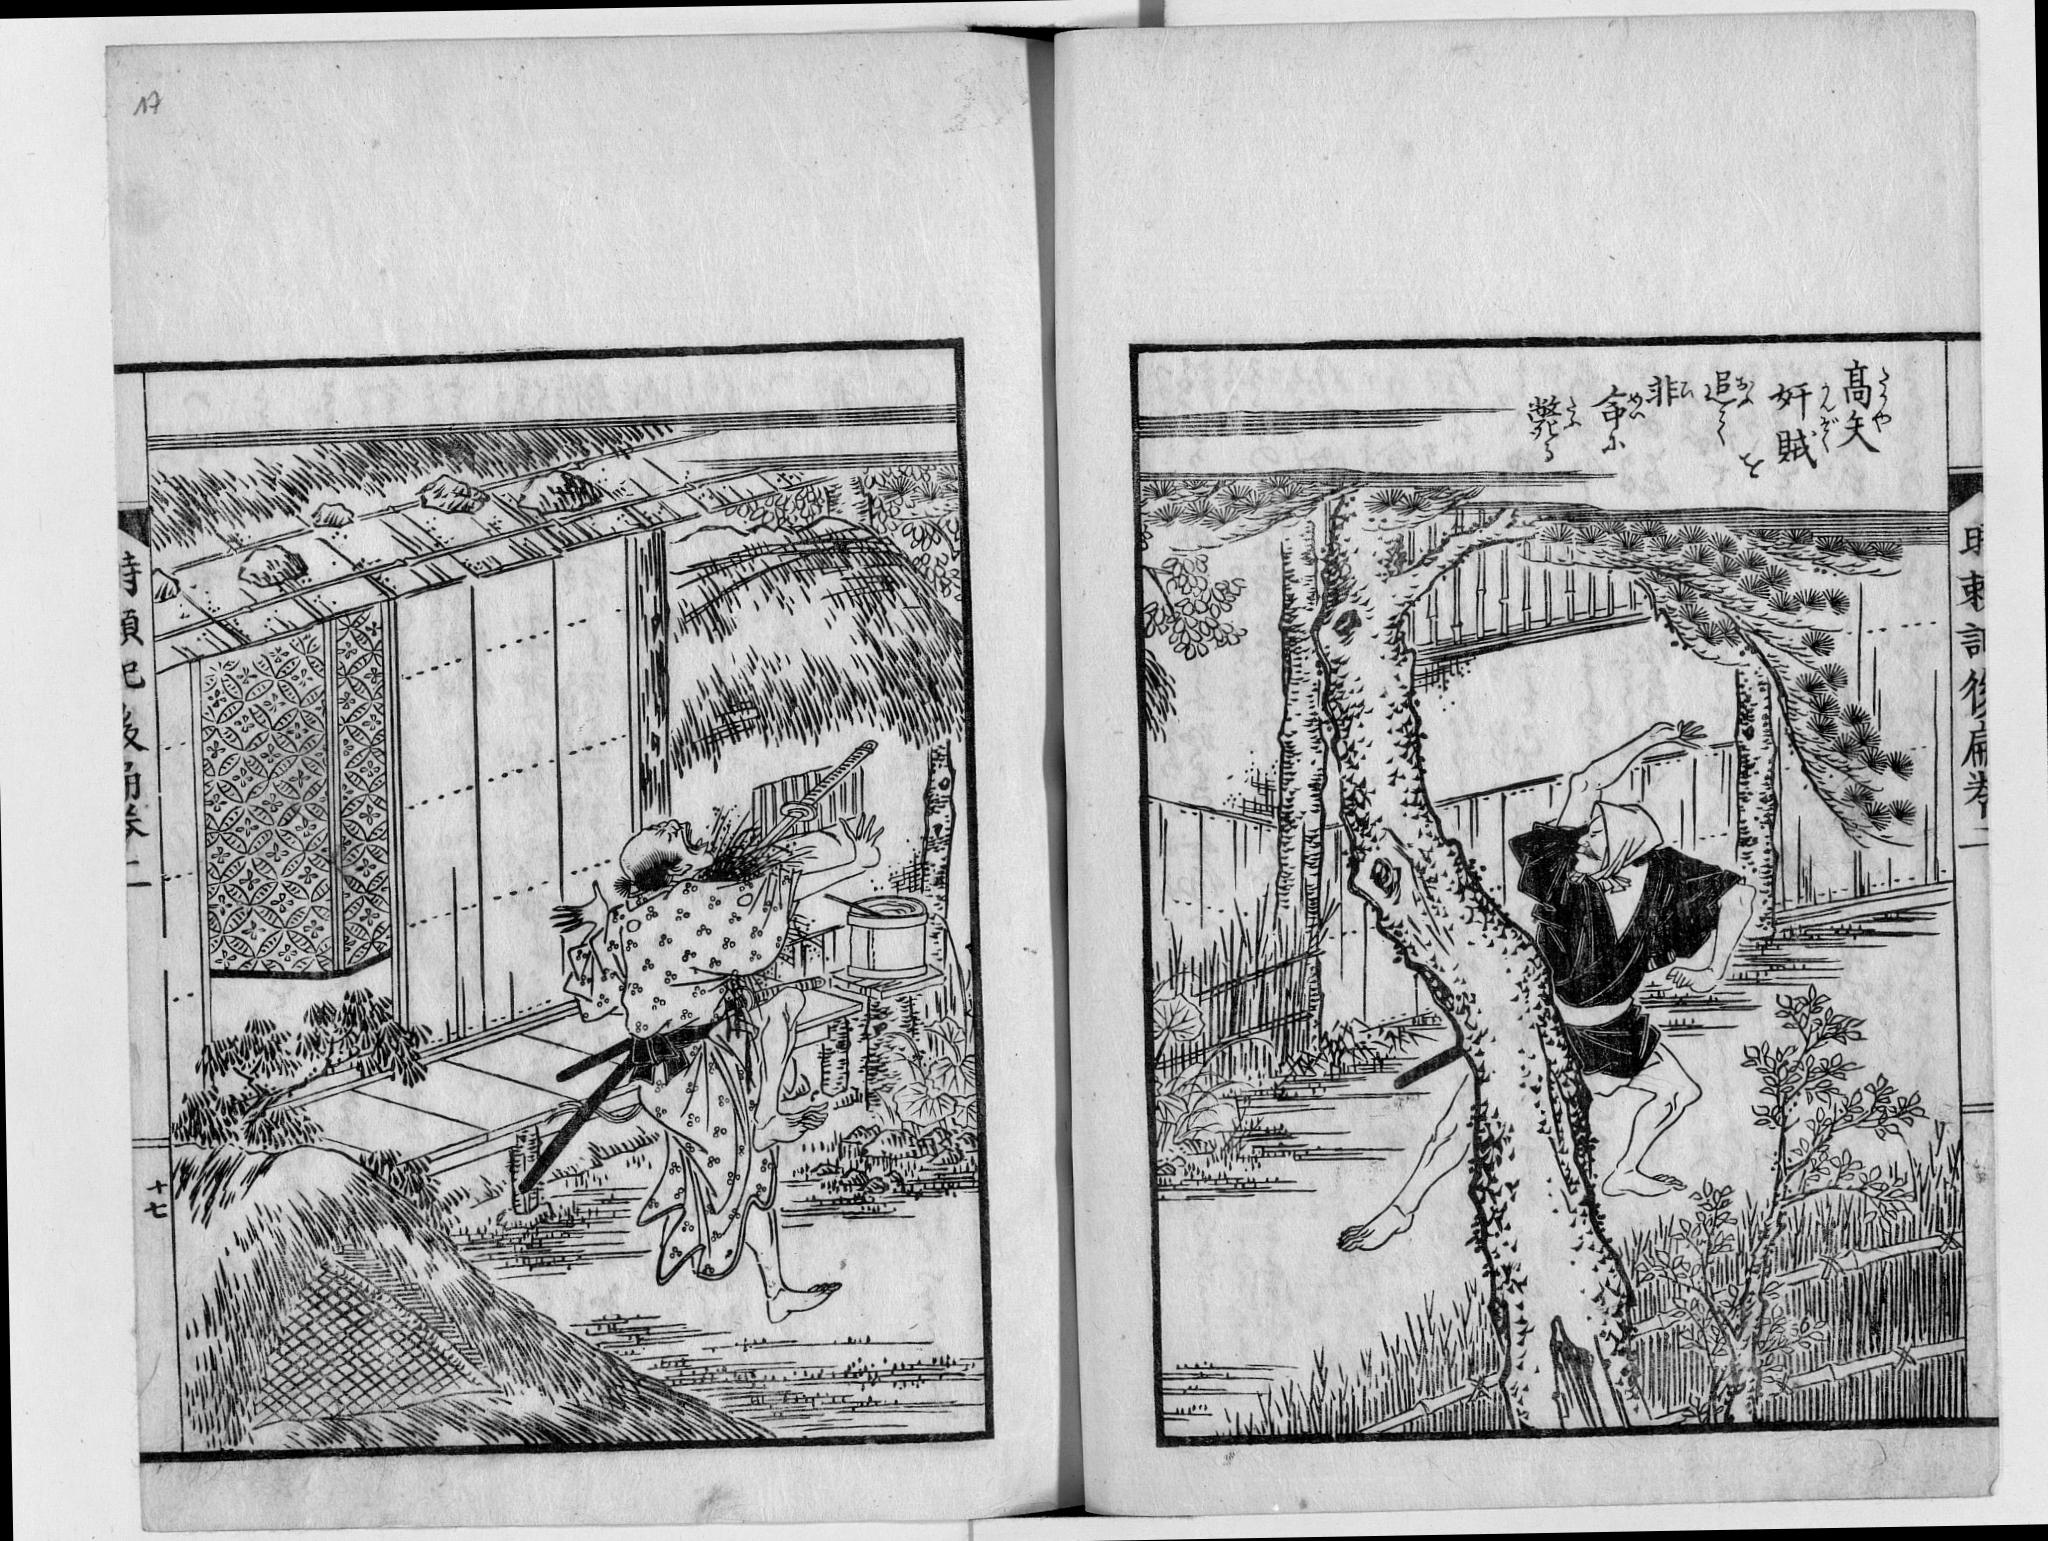MainZone-Character: (1770, 418, 1839, 471), (1770, 374, 1836, 419), (1527, 388, 1583, 439), (1838, 359, 1893, 408), (1700, 369, 1758, 413), (1596, 382, 1646, 432), (1838, 410, 1893, 453), (1648, 371, 1693, 408)
MainZone-Ruby: (1734, 371, 1755, 411), (1816, 418, 1839, 453), (1875, 366, 1893, 408), (1562, 395, 1582, 432), (1816, 379, 1834, 413), (1627, 392, 1643, 419), (1872, 411, 1889, 431), (1680, 377, 1693, 398)
